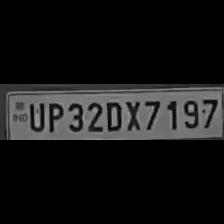1: (161, 97, 179, 131)
2: (85, 98, 103, 132)
3: (64, 100, 84, 132)
7: (142, 98, 160, 132), (200, 96, 218, 130)
9: (179, 96, 199, 130)
D: (103, 98, 123, 132)
P: (44, 100, 64, 132)
U: (26, 100, 44, 132)
X: (122, 98, 142, 132)
